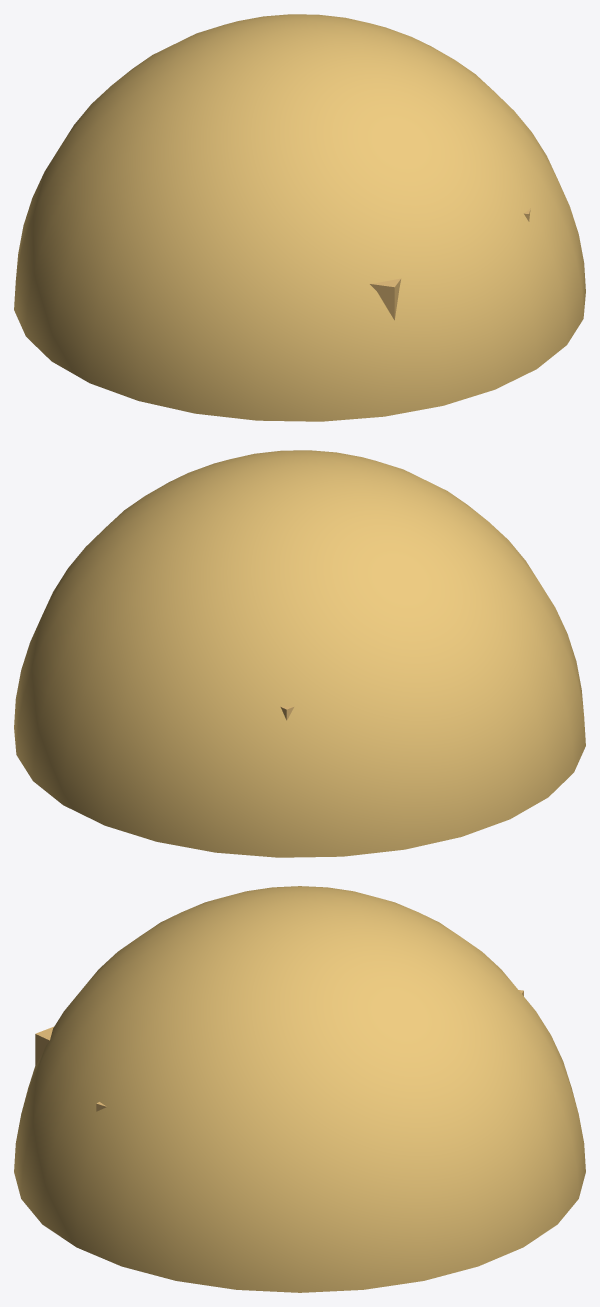
File: wok_food_kungpao_plated.glb
3 renders of one model, top to bottom at view 1: azimuth 30°, elevation 25°; view 2: azimuth 150°, elevation 25°; view 3: azimuth 270°, elevation 25°, orthographic.
Size of the model in its own units: 0.32 by 0.16 by 0.32.
